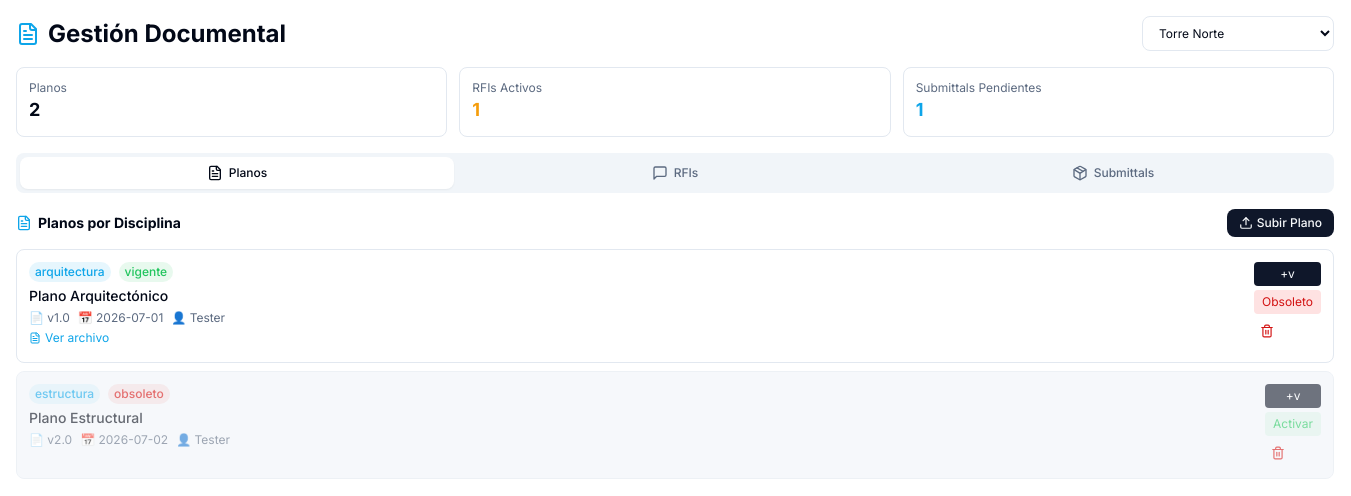
Test: GestionDocumental Screen › Carga de contenido por tab › carga el contenido del tab RFIs al seleccionarlo
This screenshot has width=1351, height=496.
Click the button labelled "RFIs" at x=675, y=173, box top-left (458, 157), bottom-right (892, 189)
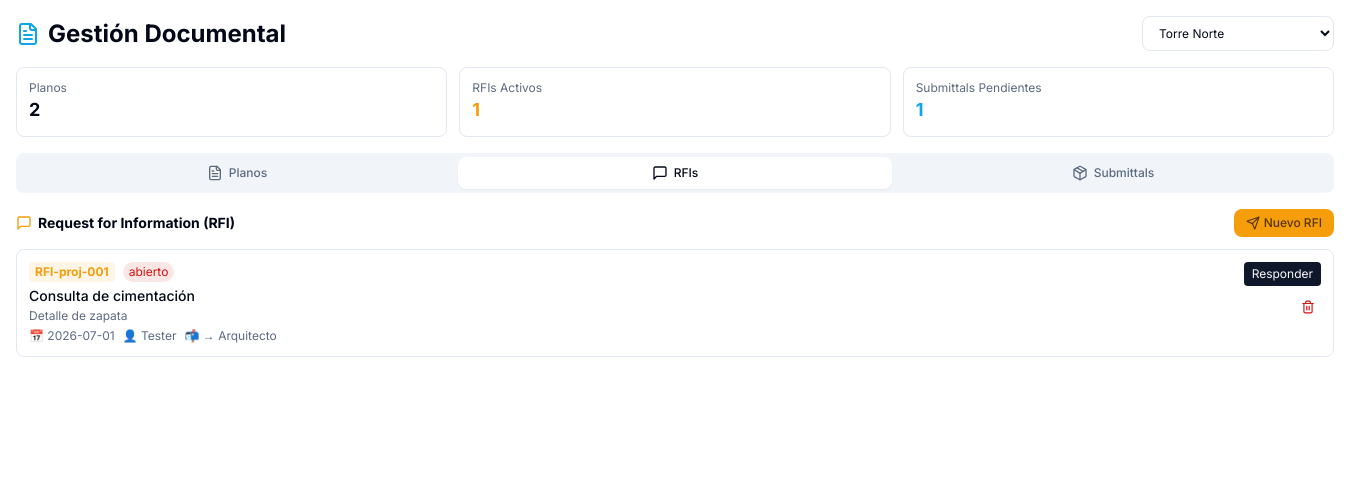
Now the heading "Request for Information (RFI)" is shown, box top-left (16, 213), bottom-right (235, 233)
Now the text "Consulta de cimentación" is shown, box top-left (29, 287), bottom-right (195, 304)
